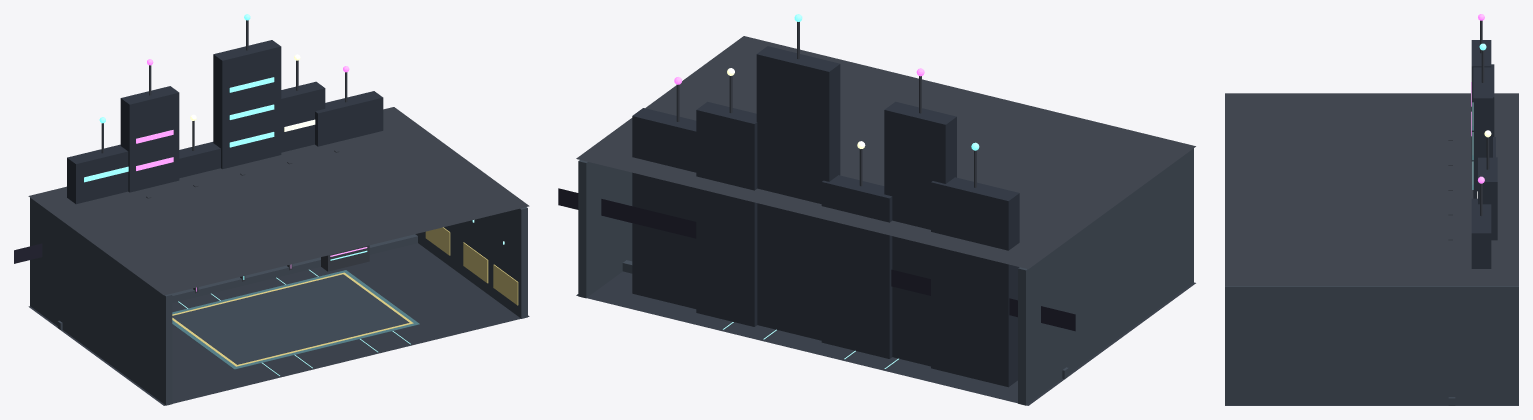
Rendered from room_cyber_casino.glb.
The picture shows the model from 3 angles, left to right: view 1: azimuth 30°, elevation 25°; view 2: azimuth 150°, elevation 25°; view 3: azimuth 270°, elevation 25°; orthographic projection. The views are drawn at different scales.
Parts seen in each view (by area): view 1: Plane, Floor, SideWall_Left, ClubRug_Inner, SkyTower_1.5, SideWall_Right, SkyTower_-6.0, SkyTower_9.0, SkyTower_-9.5, SkyTower_5.5, Baseboard, ClubRug_Outer (+6 smaller); view 2: Plane, SideWall_Left, SkyTower_1.5, SkyTower_-9.5, SkyTower_5.5, SkyTower_-2.5, SkyTower_-6.0, SkyTower_9.0, Floor, SideWall_Right, CyberSkylineBackdrop; view 3: Plane, SideWall_Right, SkyTower_1.5, SkyTower_9.0, SkyTower_5.5, SkyTower_-6.0, Floor.
Part boxes in pixels (x1=…): Plane: x1=28, y1=107, x2=529, y2=295; Floor: x1=28, y1=243, x2=529, y2=405; SideWall_Left: x1=30, y1=197, x2=172, y2=405; ClubRug_Inner: x1=172, y1=274, x2=409, y2=364; SkyTower_1.5: x1=213, y1=40, x2=281, y2=169; SideWall_Right: x1=415, y1=207, x2=527, y2=318; SkyTower_-6.0: x1=120, y1=86, x2=179, y2=192; SkyTower_9.0: x1=315, y1=91, x2=383, y2=146; SkyTower_-9.5: x1=67, y1=144, x2=128, y2=204; SkyTower_5.5: x1=281, y1=81, x2=325, y2=152; Baseboard: x1=57, y1=234, x2=417, y2=329; ClubRug_Outer: x1=172, y1=270, x2=419, y2=369; Plane: x1=576, y1=36, x2=1195, y2=269; SideWall_Left: x1=1018, y1=148, x2=1193, y2=405; SkyTower_1.5: x1=756, y1=46, x2=840, y2=340; SkyTower_-9.5: x1=931, y1=177, x2=1019, y2=387; SkyTower_5.5: x1=696, y1=101, x2=757, y2=326; SkyTower_-2.5: x1=821, y1=175, x2=892, y2=358; SkyTower_-6.0: x1=884, y1=101, x2=956, y2=366; SkyTower_9.0: x1=632, y1=108, x2=696, y2=308; Floor: x1=576, y1=271, x2=1195, y2=405; SideWall_Right: x1=578, y1=160, x2=632, y2=298; CyberSkylineBackdrop: x1=558, y1=188, x2=1075, y2=331; Plane: x1=1225, y1=93, x2=1518, y2=286; SideWall_Right: x1=1225, y1=286, x2=1518, y2=404; SkyTower_1.5: x1=1473, y1=67, x2=1492, y2=198; SkyTower_9.0: x1=1471, y1=198, x2=1491, y2=268; SkyTower_5.5: x1=1478, y1=157, x2=1497, y2=240; SkyTower_-6.0: x1=1471, y1=40, x2=1491, y2=161; Floor: x1=1225, y1=405, x2=1518, y2=405.
Bounding box in the file's own units: 32 × 18.67 × 18.
